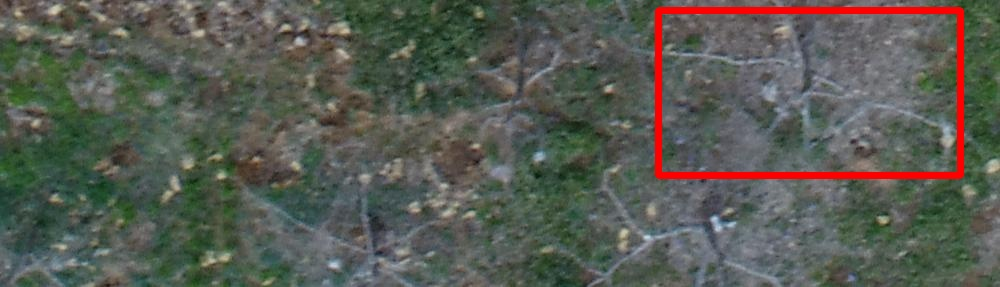apple: (658, 10, 960, 175)
